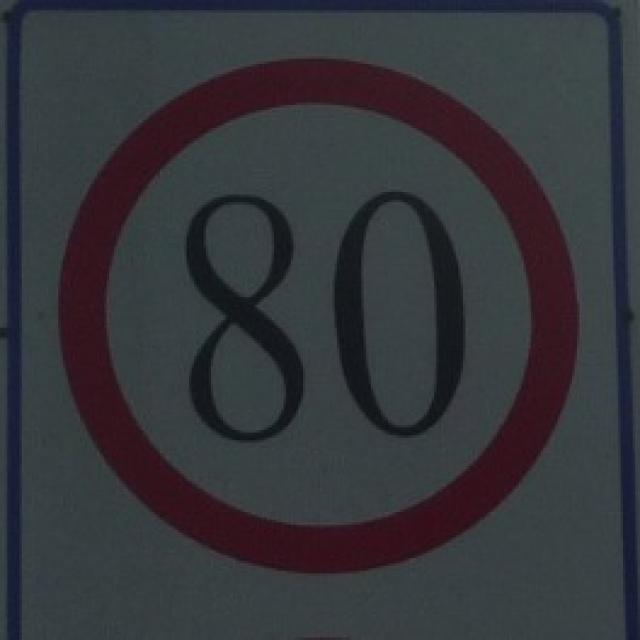Speed Limit -80-: (180, 182, 470, 444)
